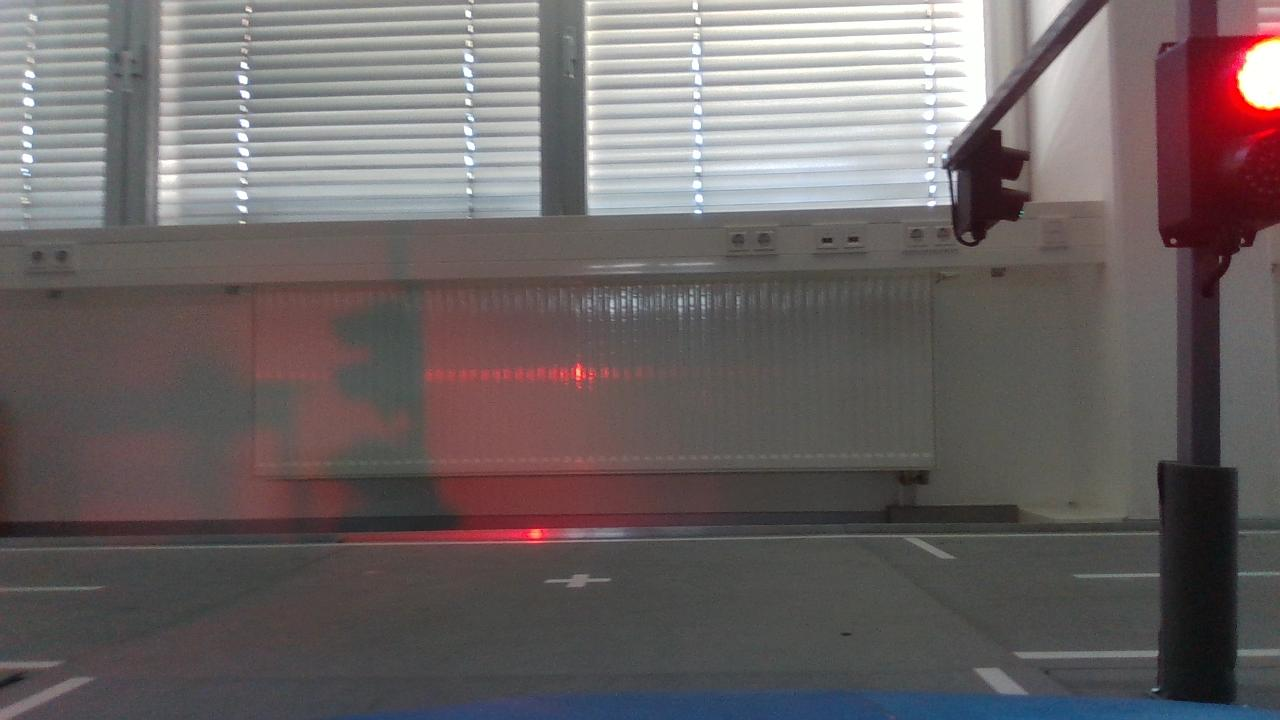traffic_light_red: (1148, 28, 1280, 280)
